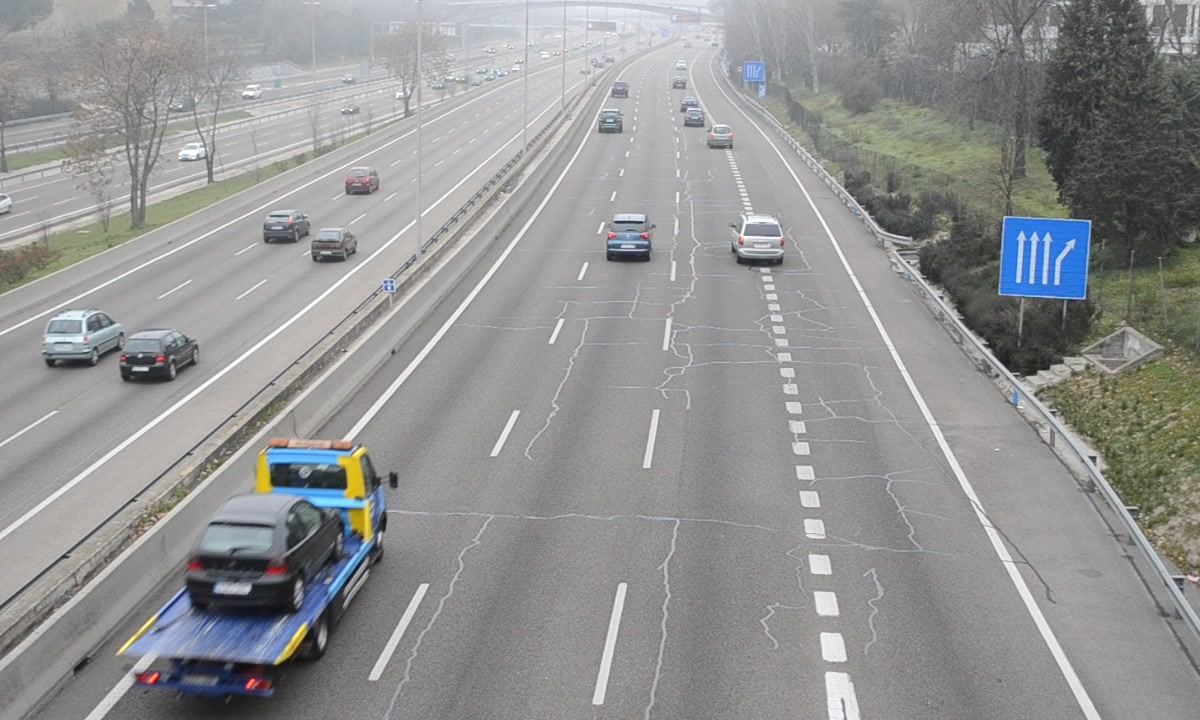car: (735, 213, 786, 265), (604, 214, 651, 259), (706, 123, 734, 150), (600, 108, 622, 134)
small-truck: (118, 437, 388, 690)
